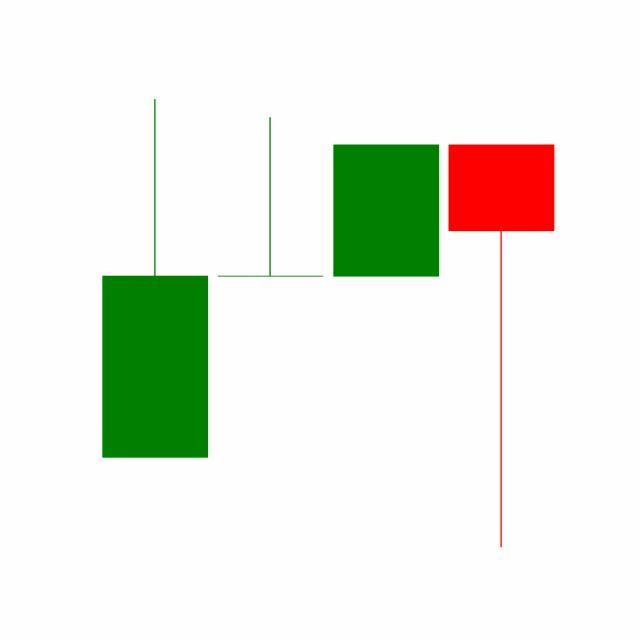Hammer: (444, 141, 560, 553)
